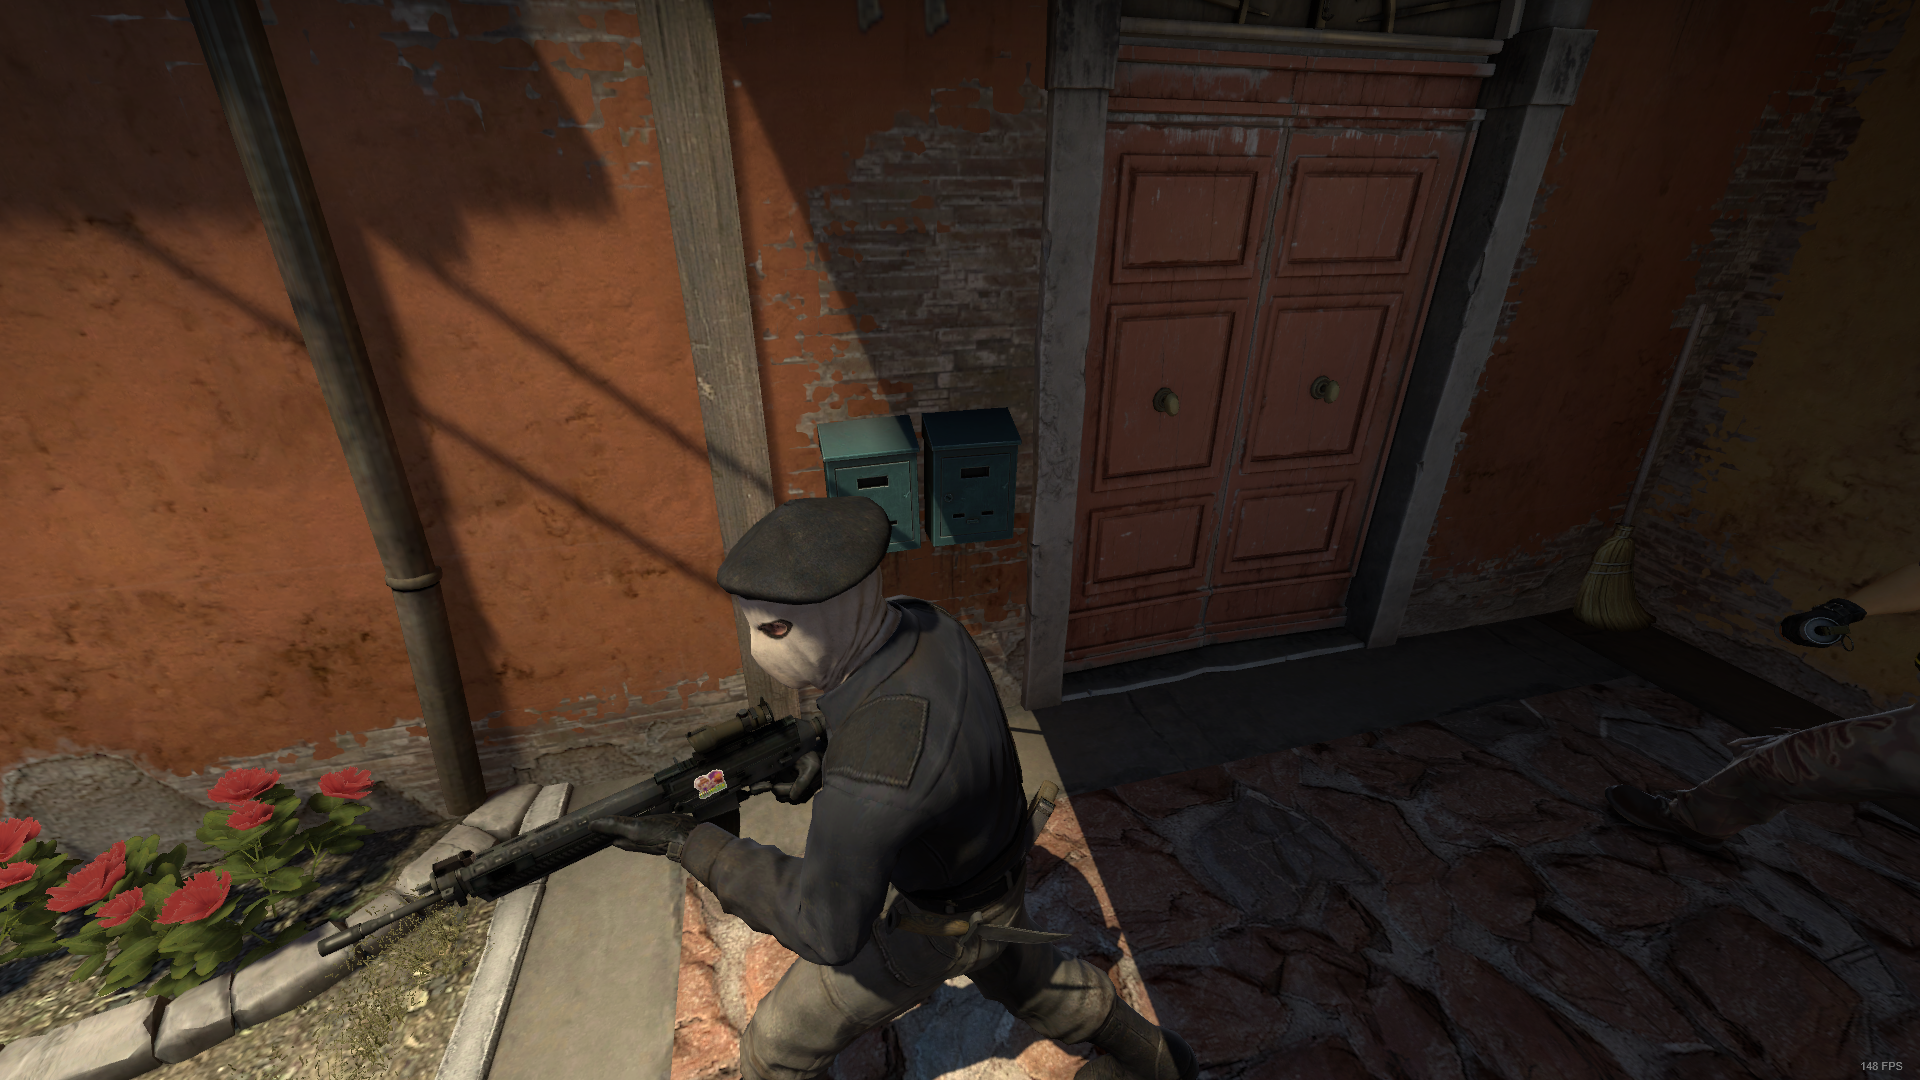t: (592, 489, 1208, 1080)
